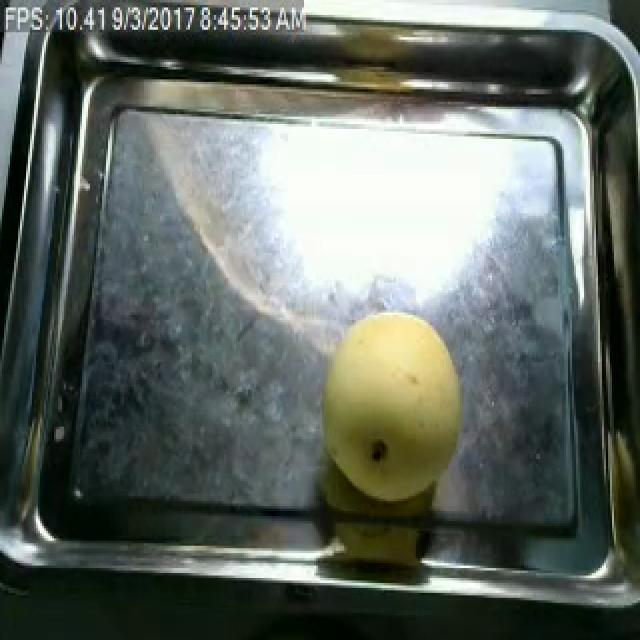Fruit: (304, 302, 476, 514)
